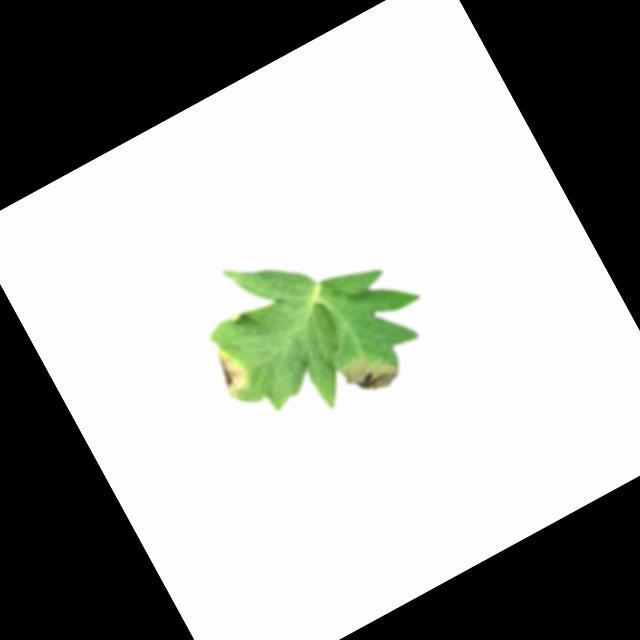Late_blight: (335, 338, 407, 404), (205, 339, 254, 397)
